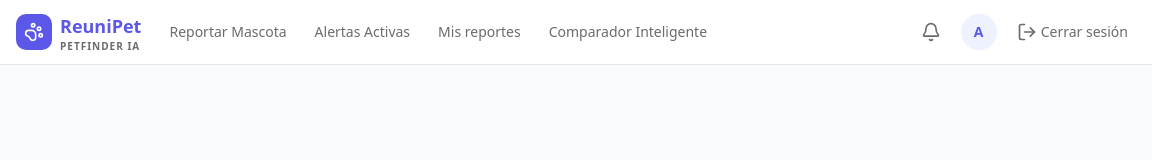
it: AppNavbar (HU12 + HU16) › AC4: "Cerrar sesión" borra el token y vuelve al inicio
Click the button "Cerrar sesión": (1072, 32) [1009,14,1136,50]
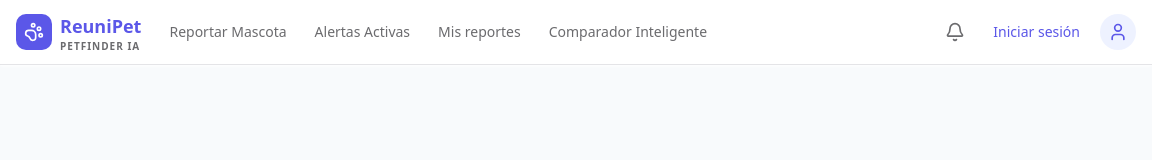
Result: the link "Iniciar sesión" is shown at [993,22,1080,41]
